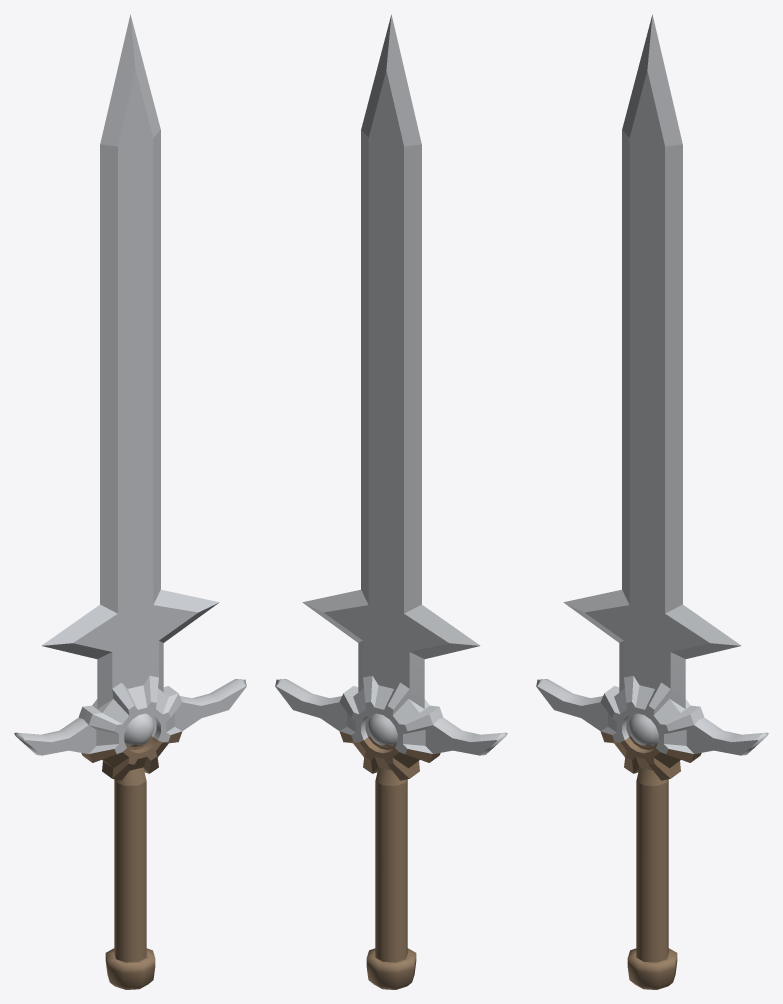
File: weapon_starmetal_blade.glb
The picture shows the model from 3 angles, left to right: view 1: azimuth 30°, elevation 25°; view 2: azimuth 150°, elevation 25°; view 3: azimuth 330°, elevation 25°; orthographic projection.
Visible parts, largest first — view 1: starmetal_blade; view 2: starmetal_blade; view 3: starmetal_blade.
Part boxes in pixels (box(x1,y1,x2,y2)): starmetal_blade: box(14, 14, 246, 989); starmetal_blade: box(275, 14, 507, 989); starmetal_blade: box(536, 14, 768, 989).
Size of the model in its own units: 0.2845 by 1.15 by 0.0562.
